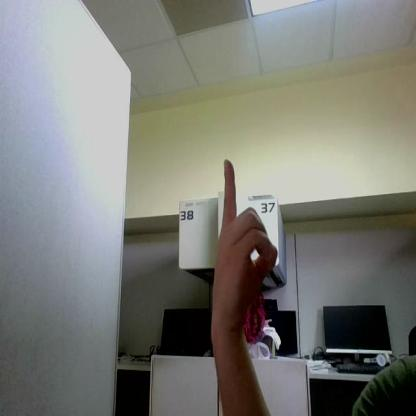D: (212, 160, 276, 324)
